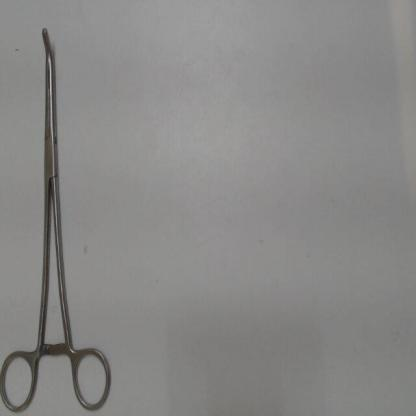Lahey Forceps: (0, 21, 118, 414)
